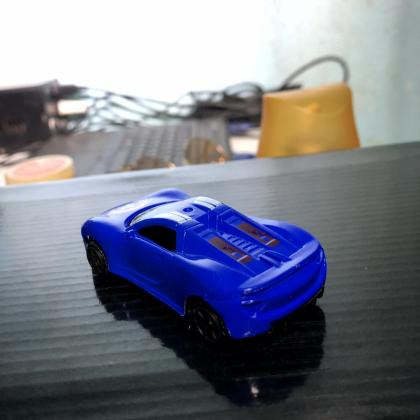Car: (72, 183, 332, 353)
